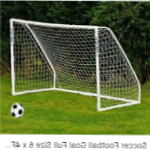goals: (7, 16, 142, 113)
